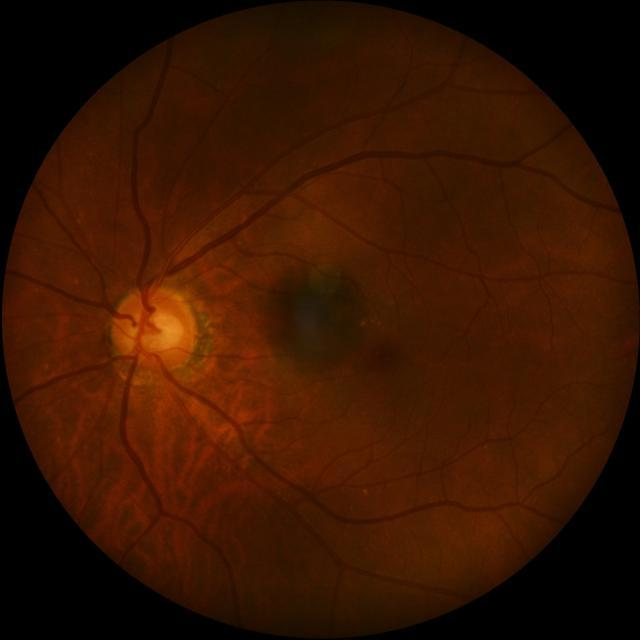OC: (130, 310, 183, 352)
OD: (109, 284, 196, 370)
